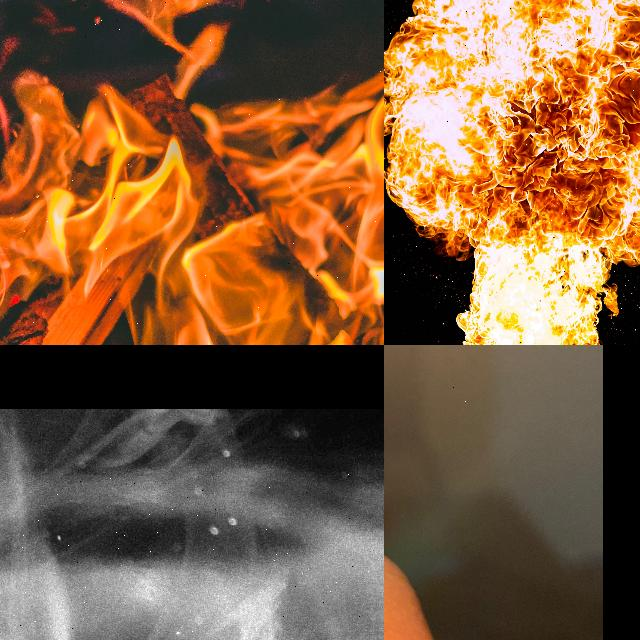fire: (0, 65, 384, 345), (384, 0, 640, 345), (104, 0, 216, 47)
smoke: (46, 474, 384, 640)
